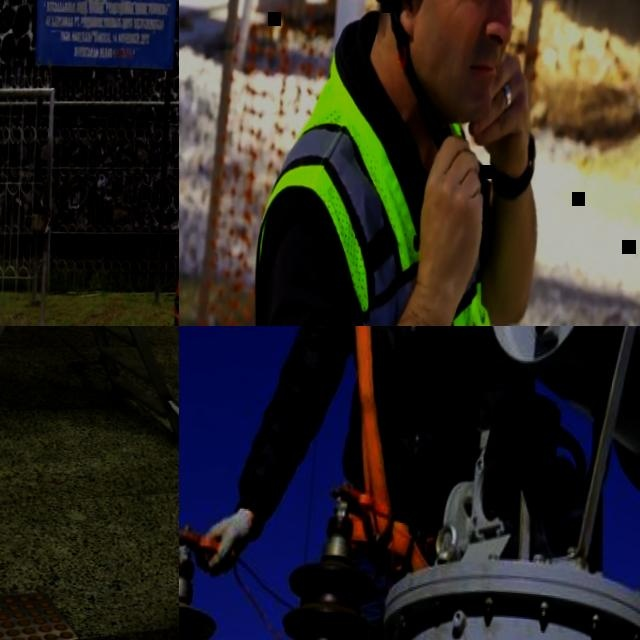NO-Mask: (414, 0, 516, 129)
NO-Safety Vest: (349, 326, 497, 516)
Person: (191, 326, 559, 640), (243, 0, 575, 326), (126, 39, 179, 326)
Safety Vest: (243, 49, 513, 326)
